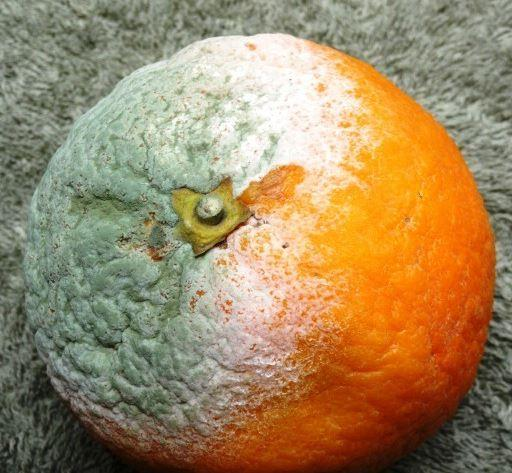Orange Rotten: (20, 10, 496, 473)
